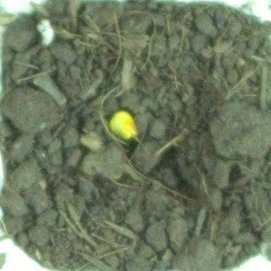pepper seed: (35, 39, 178, 180)
